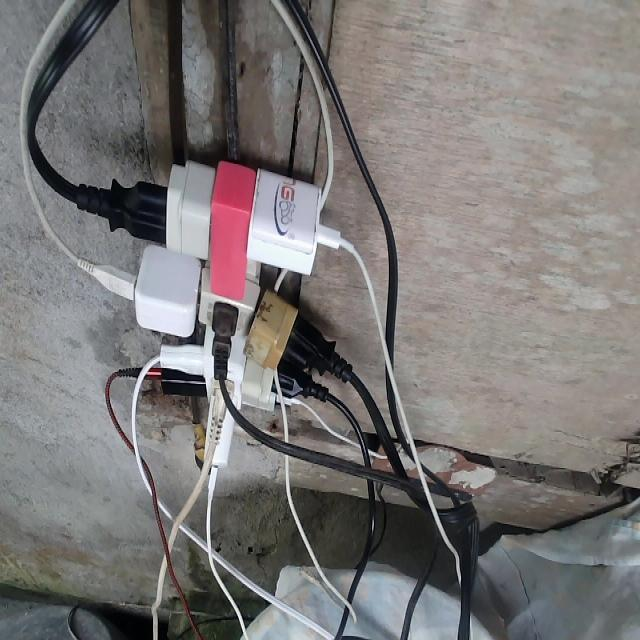-: (107, 162, 337, 462)
